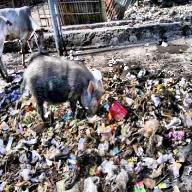boar: (22, 39, 105, 111)
